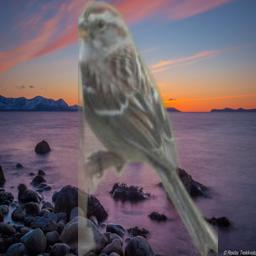Sparrow: (78, 0, 218, 256)
